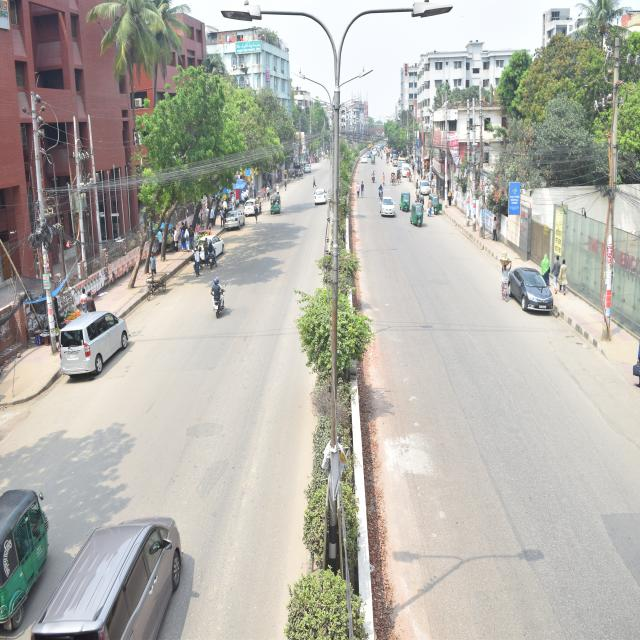car: (509, 262, 553, 324), (192, 232, 226, 271), (223, 200, 246, 238), (242, 191, 260, 224), (378, 198, 396, 223), (395, 160, 416, 181), (419, 180, 437, 201), (312, 188, 326, 215)
microbus: (50, 309, 138, 381)
motorbike: (208, 271, 230, 322), (204, 236, 218, 266), (375, 184, 382, 202)
